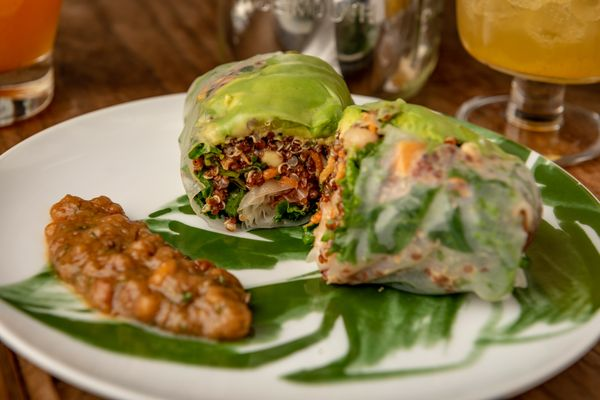soup: (309, 100, 543, 301), (176, 49, 372, 231)
